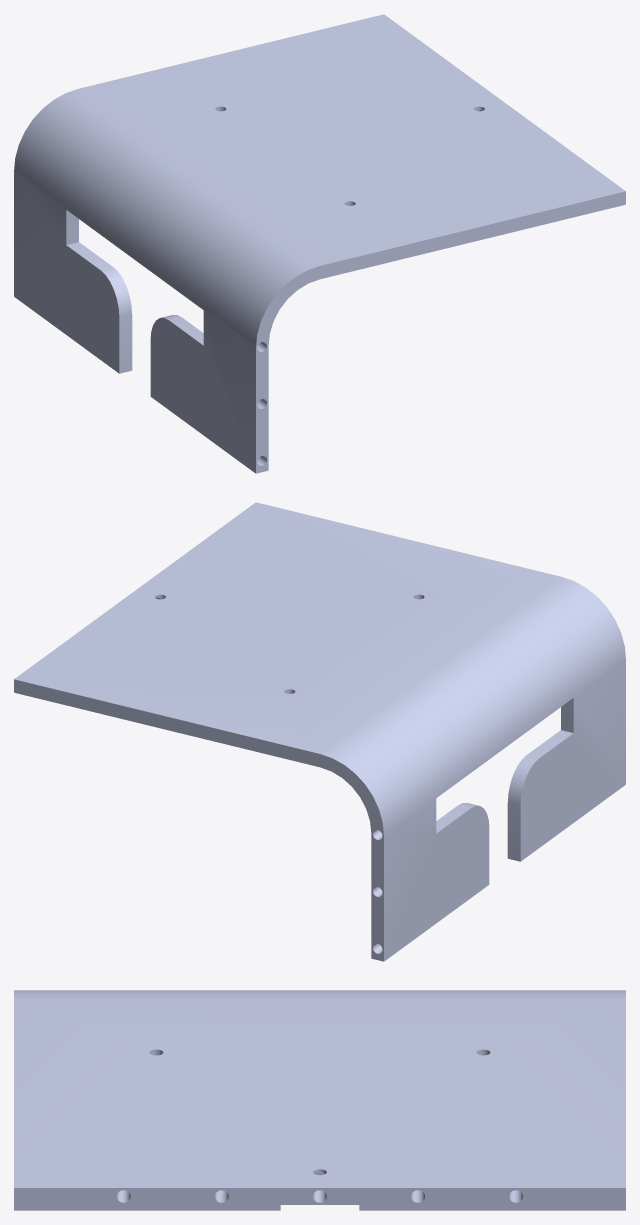
Rendered from body_front_1_1.dae.
3 views of the same model, one above another, from view 1: azimuth 30°, elevation 25°; view 2: azimuth 150°, elevation 25°; view 3: azimuth 270°, elevation 25° (orthographic). The views are drawn at different scales.
Visible parts, largest first — view 1: node0; view 2: node0; view 3: node0.
Part boxes in pixels (x1,y1,x2,y2): node0: (14, 14, 625, 473); node0: (14, 502, 625, 961); node0: (14, 990, 625, 1210).
Bounding box in the file's own units: 0.1157 × 0.0574 × 0.131.
